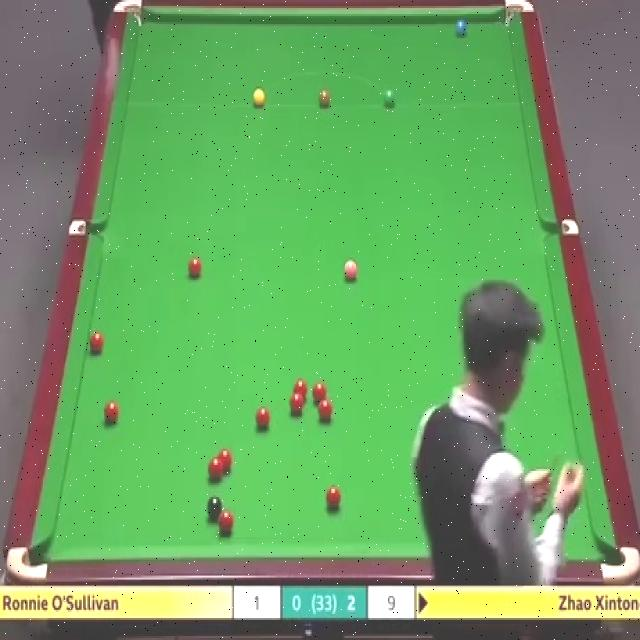black-ball: (206, 497, 222, 520)
blue-ball: (456, 19, 468, 40)
brown-ball: (318, 89, 330, 108)
green-ball: (382, 89, 395, 108)
pink-ball: (344, 262, 358, 284)
red-ball: (208, 458, 226, 484), (318, 397, 334, 425), (326, 485, 342, 511), (89, 333, 105, 358), (255, 404, 270, 429), (105, 399, 120, 424), (218, 509, 234, 532), (290, 394, 306, 416), (218, 449, 233, 472), (292, 379, 308, 399), (313, 382, 327, 403), (188, 260, 202, 278)
yellow-ball: (252, 89, 266, 108)
